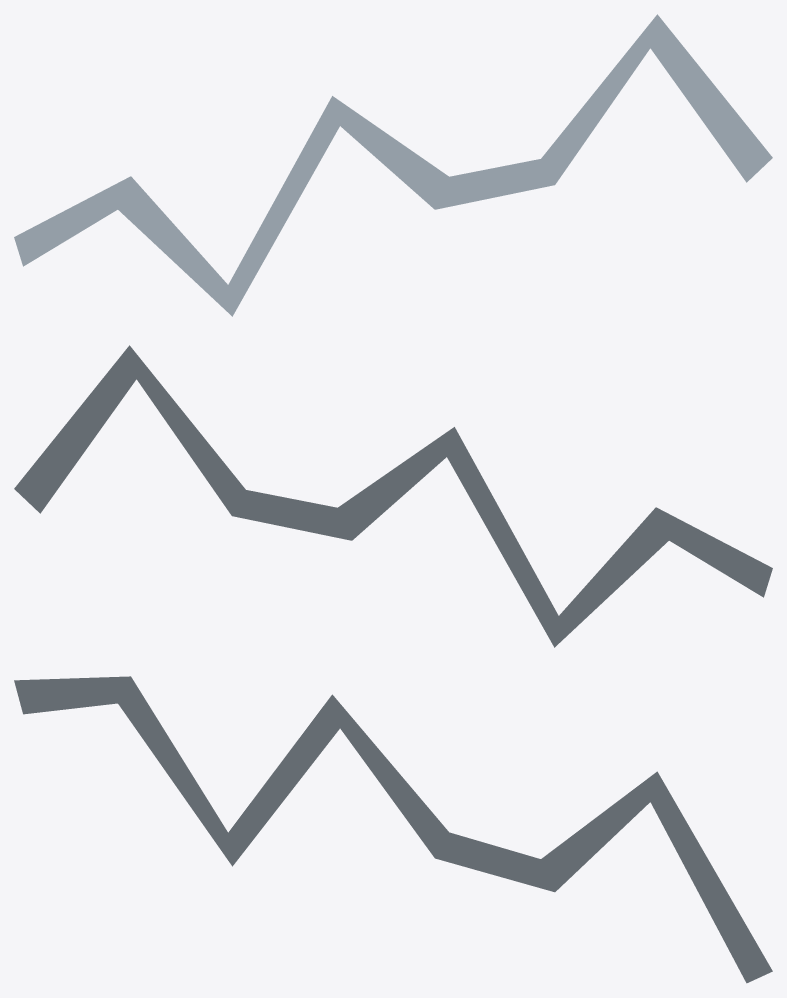
File: 2045_PotionThrow_Overall_GroundArc63.fbx
3 renders of one model, top to bottom at view 1: azimuth 30°, elevation 25°; view 2: azimuth 150°, elevation 25°; view 3: azimuth 330°, elevation 25°, orthographic.
Visible parts, largest first — view 1: PART_GroundArc63; view 2: PART_GroundArc63; view 3: PART_GroundArc63.
Part boxes in pixels (box(x1,y1,x2,y2)): PART_GroundArc63: box(14, 14, 772, 316); PART_GroundArc63: box(14, 345, 772, 647); PART_GroundArc63: box(14, 676, 772, 983).
Size of the model in its own units: 71.68 by 17.96 by 2.93e-06.
